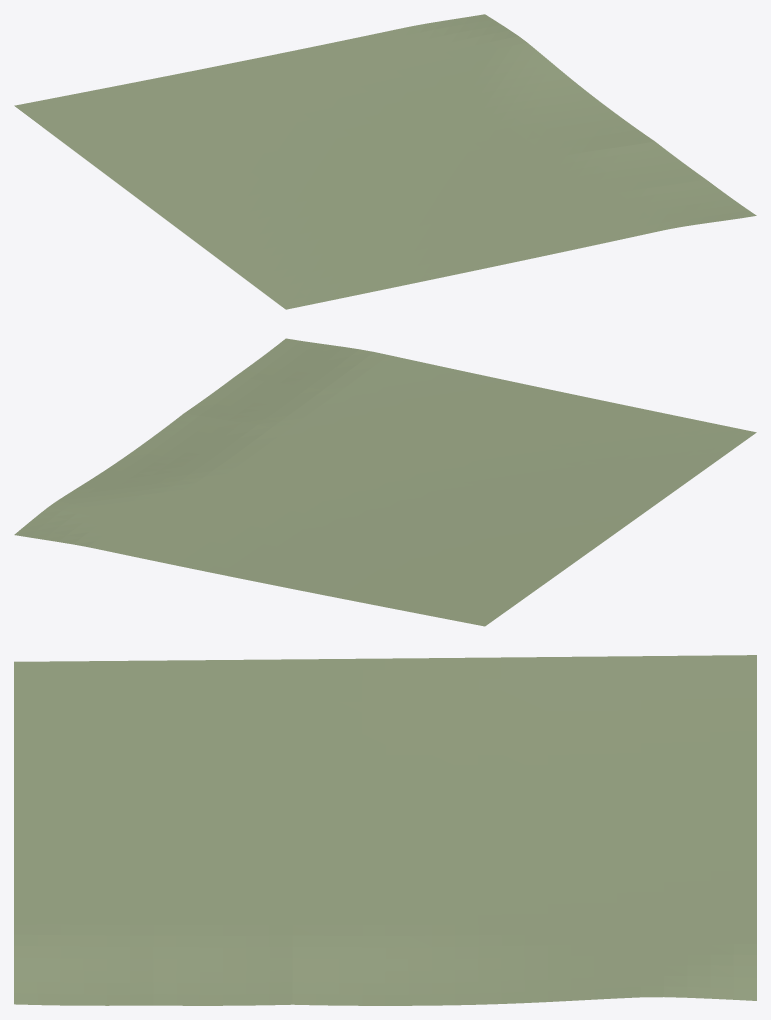
File: gardens-3-2.glb
The picture shows the model from 3 angles, top to bottom: view 1: azimuth 30°, elevation 25°; view 2: azimuth 150°, elevation 25°; view 3: azimuth 270°, elevation 25°; orthographic projection. The views are drawn at different scales.
Visible parts, largest first — view 1: gardens-3-2; view 2: gardens-3-2; view 3: gardens-3-2.
Boxes of the visible parts, box(x1,y1,x2,y2) form: gardens-3-2: box(14, 14, 756, 309); gardens-3-2: box(14, 338, 756, 626); gardens-3-2: box(14, 655, 756, 1005).
Bounding box in the file's own units: 256 × 14.01 × 256.
